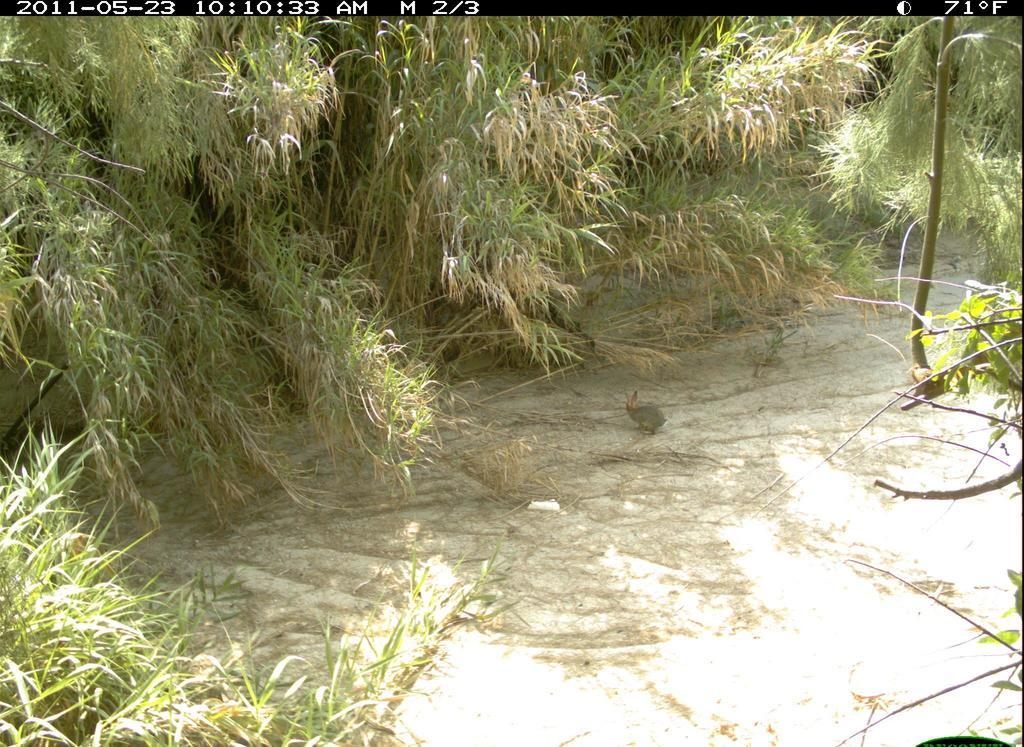rabbit: (624, 390, 671, 437)
